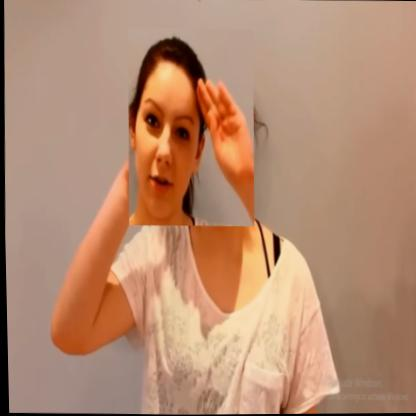Hello: (124, 27, 256, 227)
